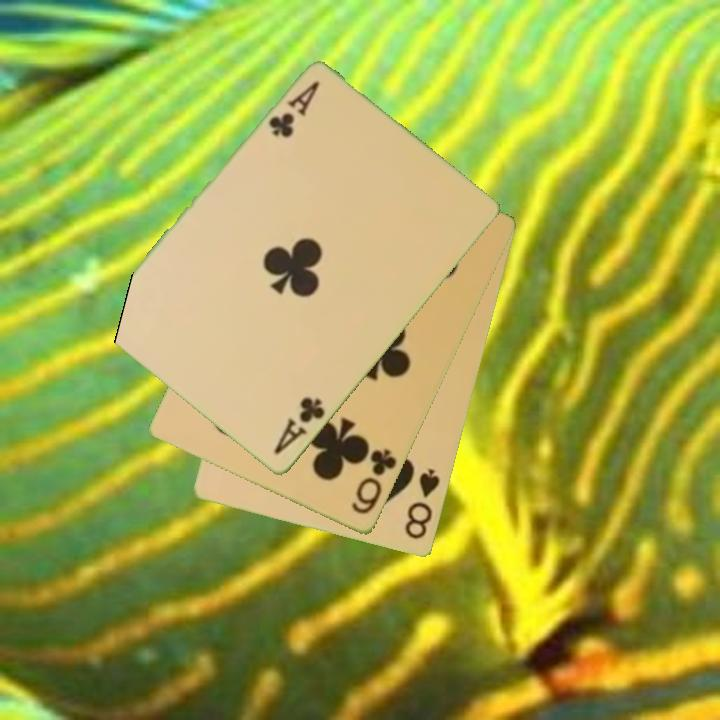6c: (347, 445, 400, 518)
8s: (401, 465, 443, 543)
Ac: (270, 393, 328, 459), (265, 78, 323, 141)
